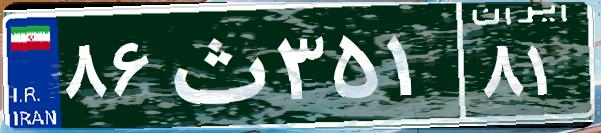1: (385, 28, 445, 110), (525, 38, 570, 115)
3: (273, 28, 330, 110)
5: (330, 28, 385, 110)
6: (110, 28, 158, 105)
8: (57, 26, 110, 107), (475, 38, 525, 113)
ث: (158, 15, 273, 115)
